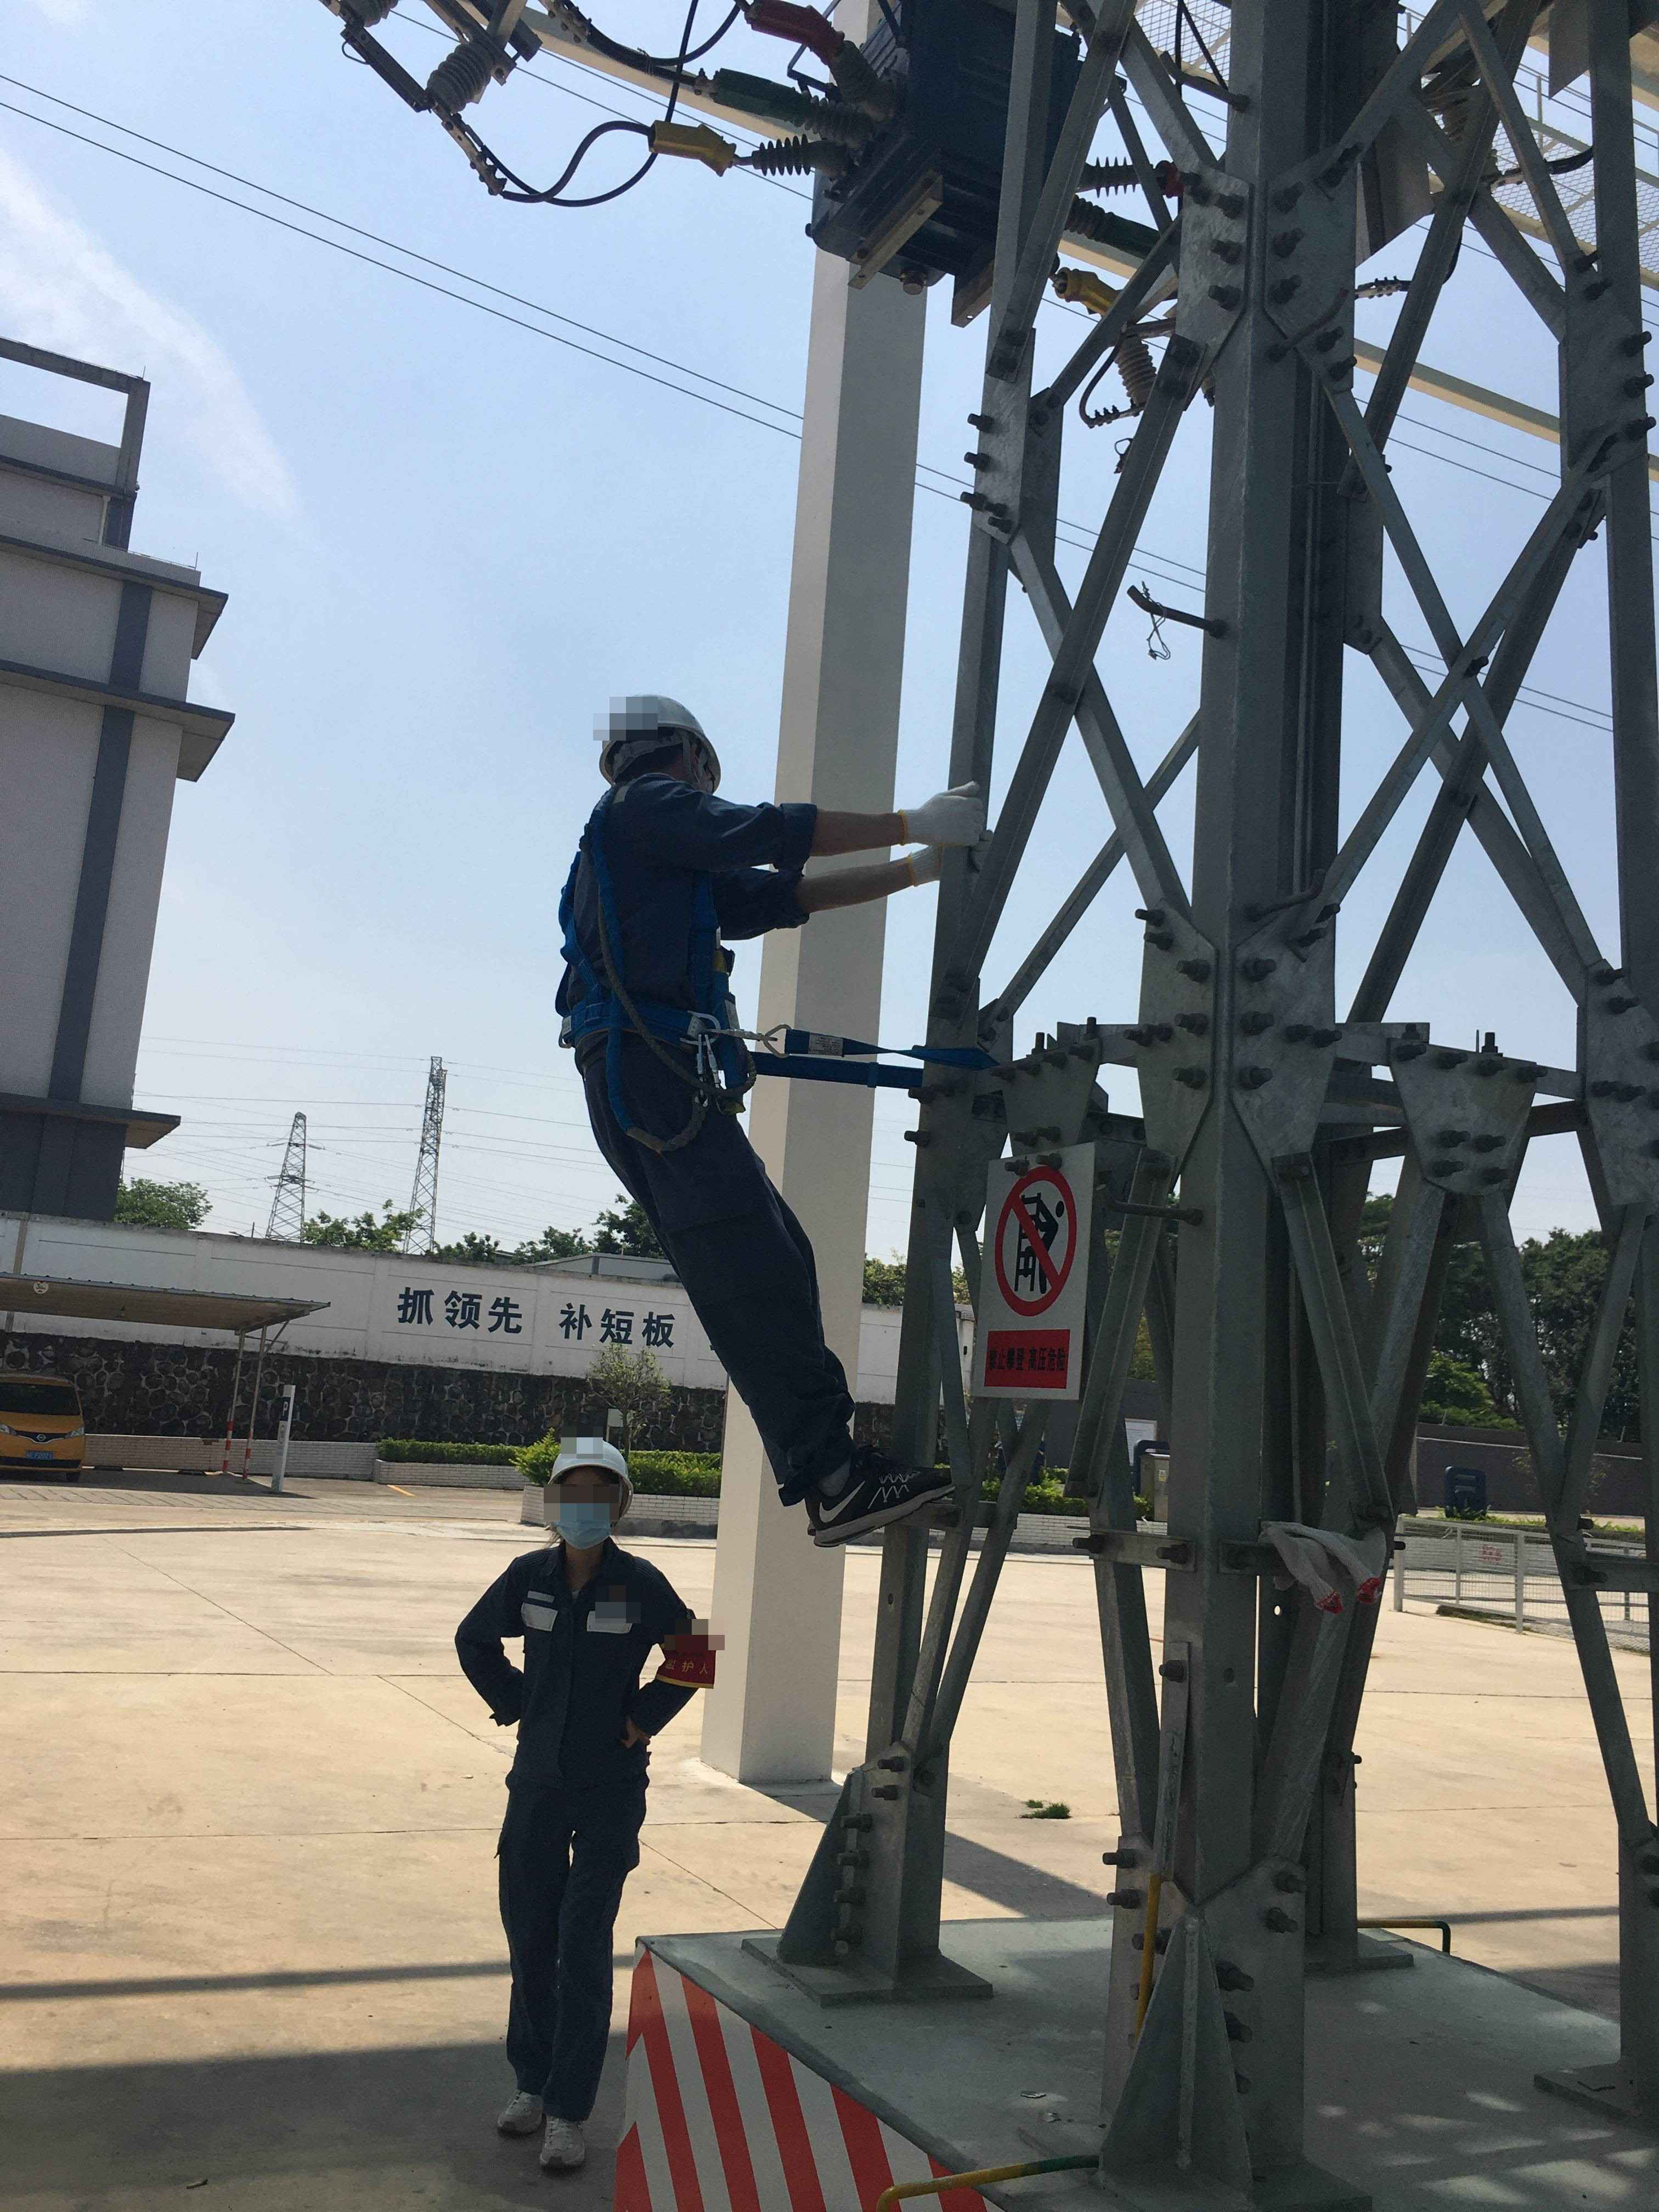downsuit: (586, 1064, 873, 1487), (495, 1752, 653, 2114)
upsuit: (549, 782, 823, 1069), (451, 1548, 720, 1750)
wrongtop: (772, 799, 924, 932)
